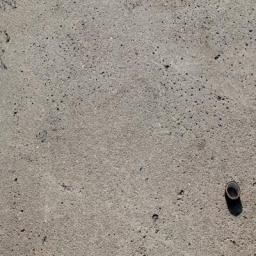FOD: (222, 181, 249, 218)
